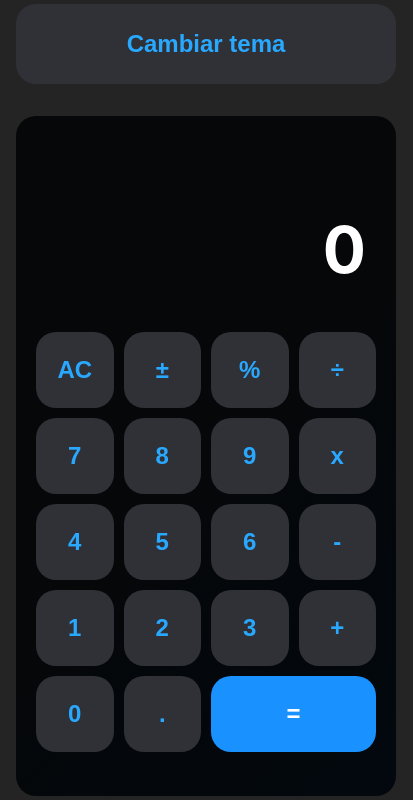
Test: Componente Calculator › Realiza la division correctamente
Click the button "1" at coordinates (75, 628), box [36,590,114,666]
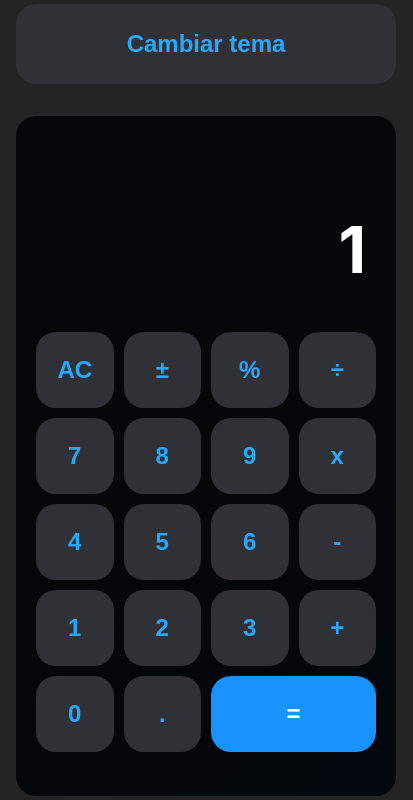
Click the button "0" at coordinates (75, 714), box [36,676,114,752]
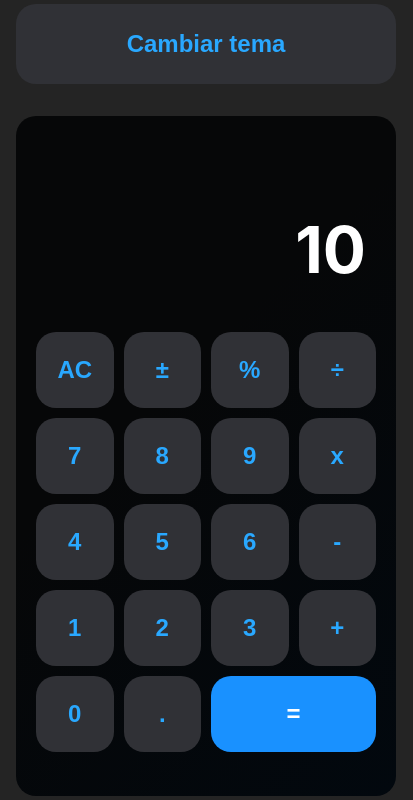
Click the button "÷" at coordinates (337, 370), box [298,332,376,408]
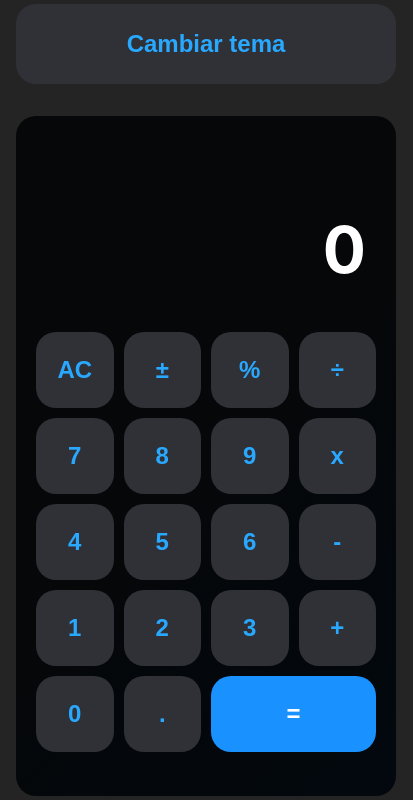
Click the button "2" at coordinates (162, 628), box [124,590,201,666]
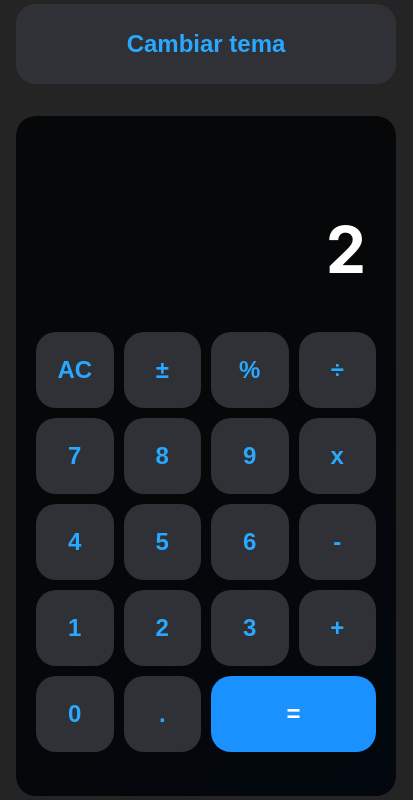
Click the button "=" at coordinates (294, 714), box [211,676,376,752]
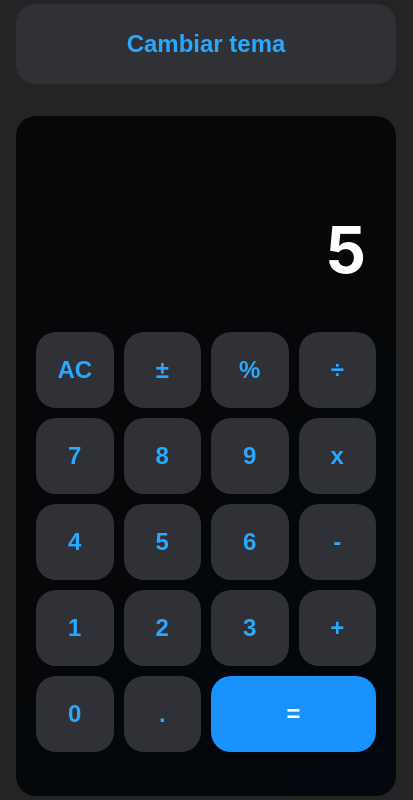
Expected: the text "0" reads "5", [326,211,366,288]
